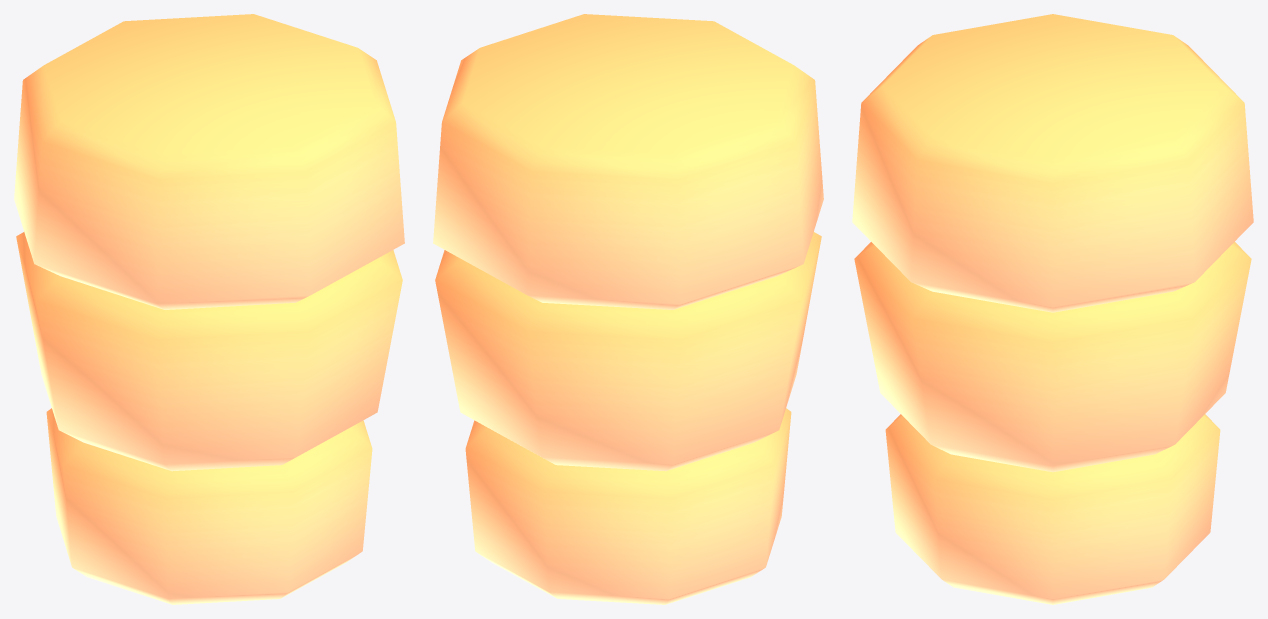
The model's file is wood_grip_100_004.glb.
The picture shows the model from 3 angles, left to right: view 1: azimuth 30°, elevation 25°; view 2: azimuth 150°, elevation 25°; view 3: azimuth 270°, elevation 25°; orthographic projection.
Visible parts, largest first — view 1: wood_grip_100.004; view 2: wood_grip_100.004; view 3: wood_grip_100.004.
Boxes of the visible parts, x1=… form: wood_grip_100.004: x1=14, y1=14, x2=404, y2=604; wood_grip_100.004: x1=433, y1=14, x2=823, y2=604; wood_grip_100.004: x1=852, y1=14, x2=1253, y2=604.
Size of the model in its own units: 2.37 by 3 by 2.37.
Materials: 1 (1 with a texture image).
